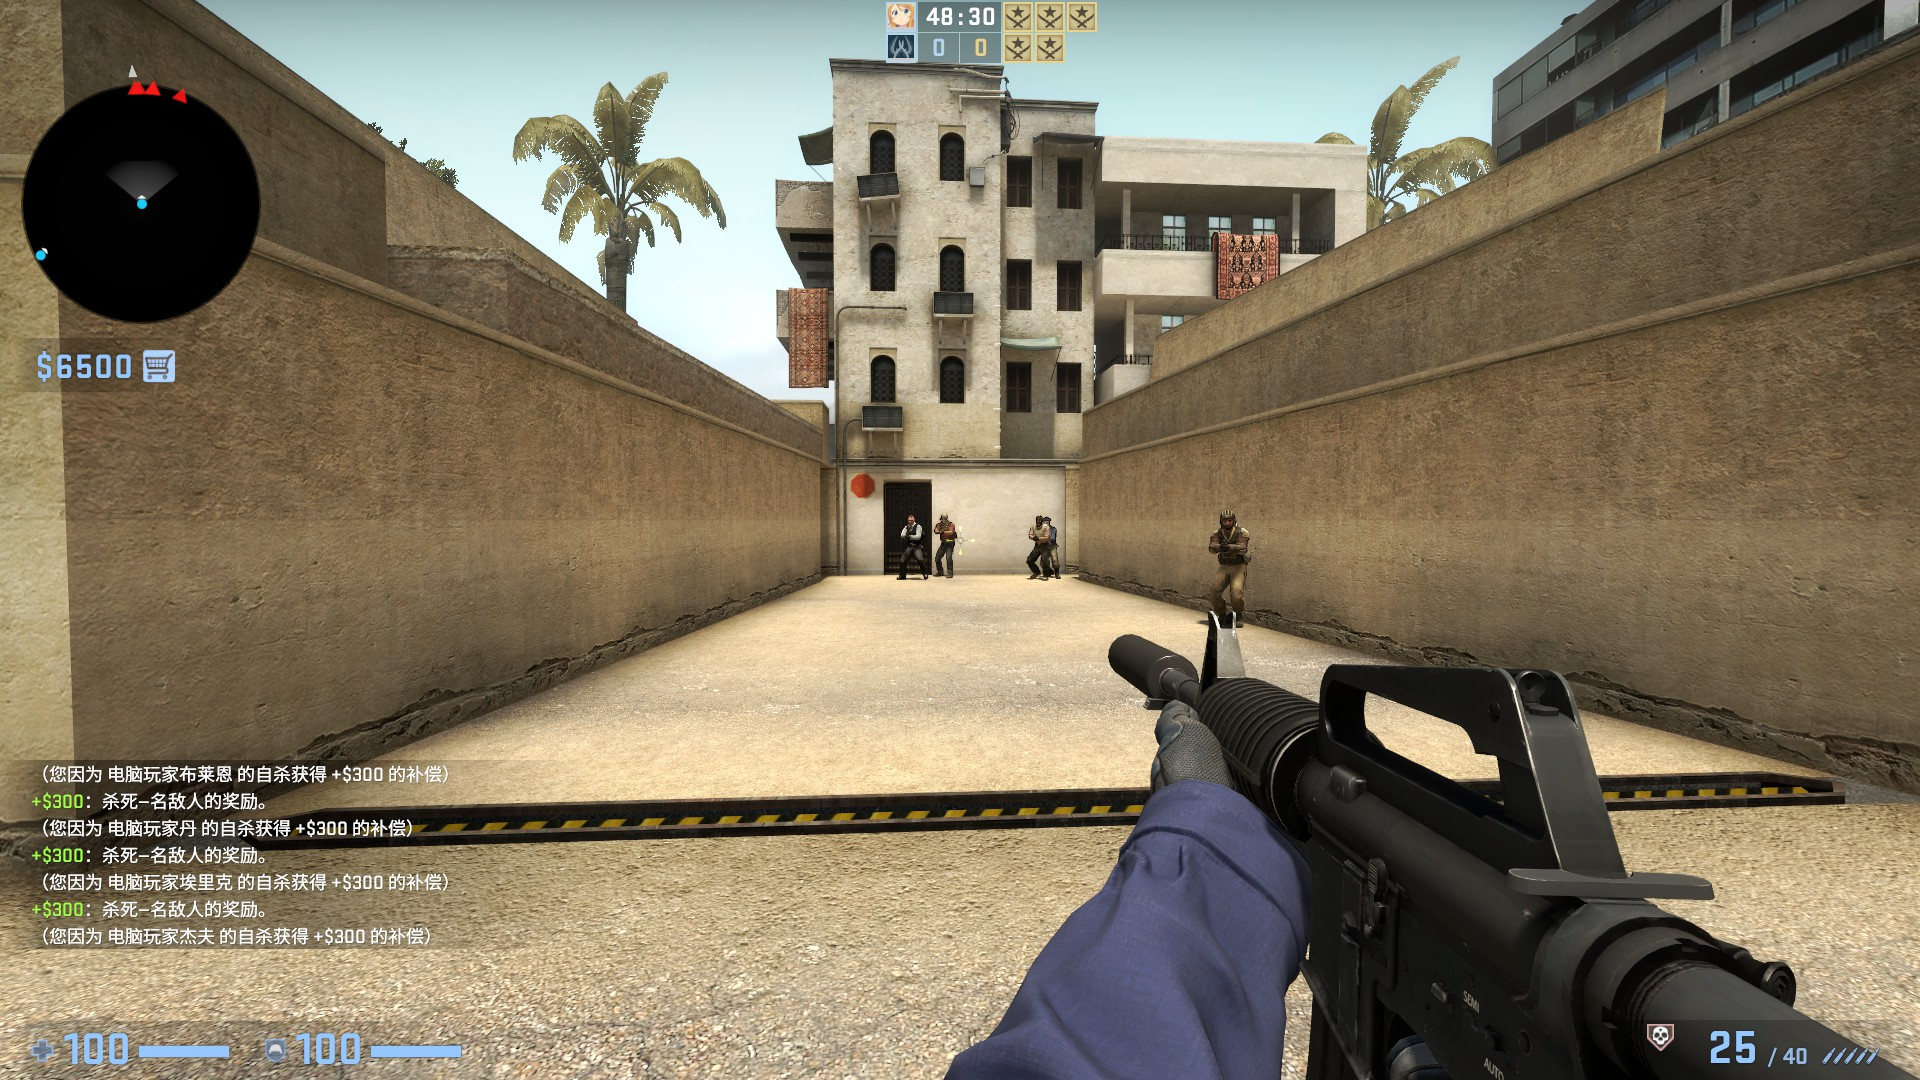head: (1217, 509, 1236, 528), (938, 511, 947, 523), (1041, 516, 1050, 526), (1034, 515, 1040, 526), (906, 515, 913, 524)
